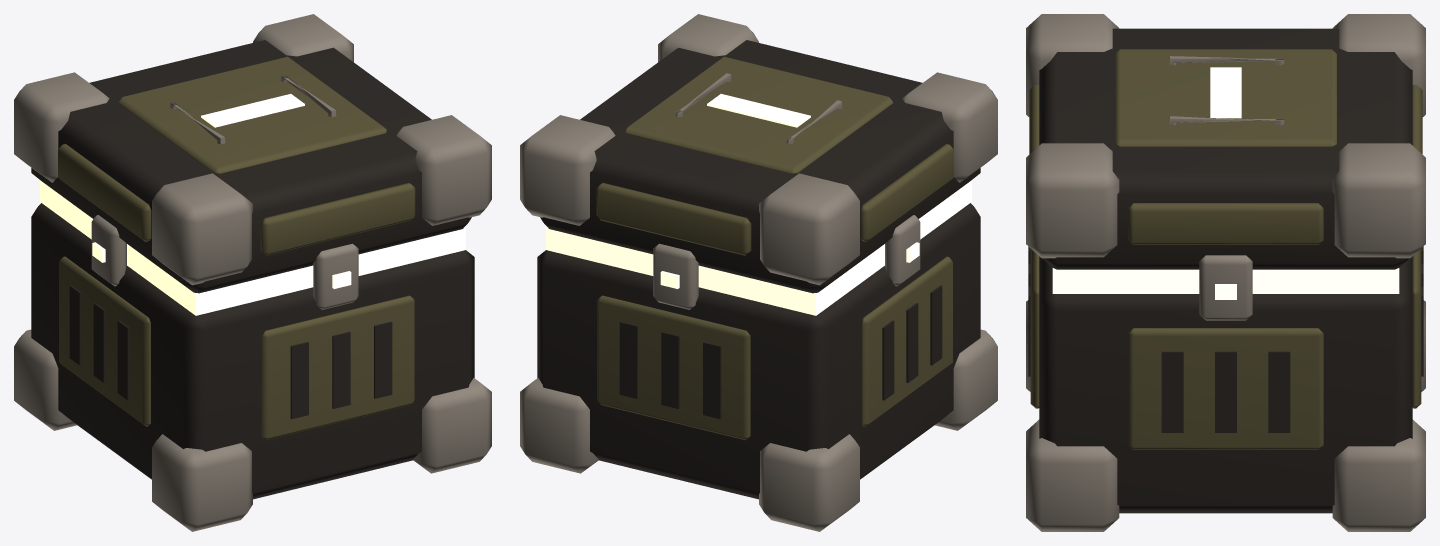
Rendered from prop_crate.glb.
The picture shows the model from 3 angles, left to right: view 1: azimuth 30°, elevation 25°; view 2: azimuth 150°, elevation 25°; view 3: azimuth 270°, elevation 25°; orthographic projection. The views are drawn at different scales.
Visible parts, largest first — view 1: body; view 2: body; view 3: body.
Part boxes in pixels (x1,y1,x2,y2): body: (14, 14, 491, 531); body: (520, 14, 997, 531); body: (1026, 14, 1425, 531).
Size of the model in its own units: 0.9 by 0.9113 by 0.9.
